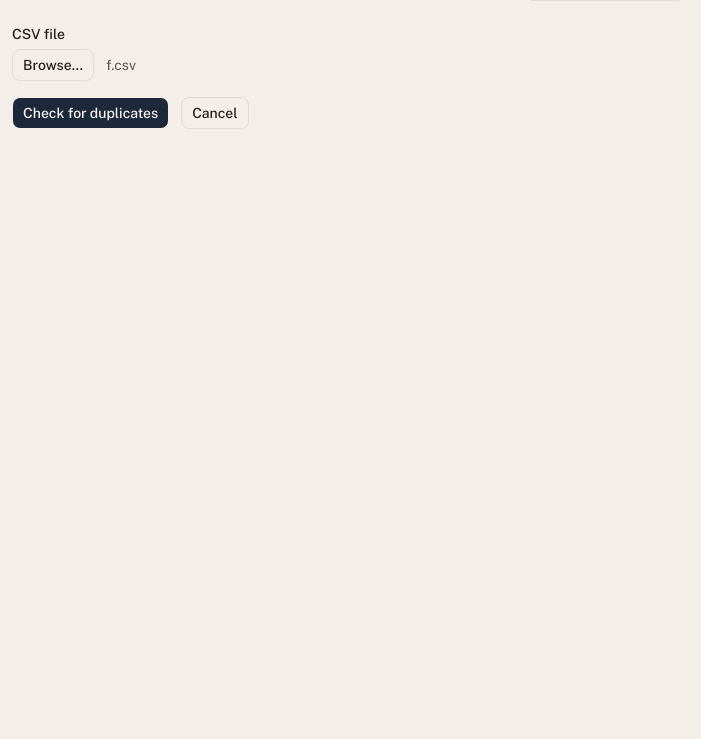
caps the list at 20 and says how many more
The width and height of the screenshot is (701, 739).
Earlier steps of the test are not shown.
Click the button "Check for duplicates" at [91, 113], box [12,97,169,129]
(page scrolled)
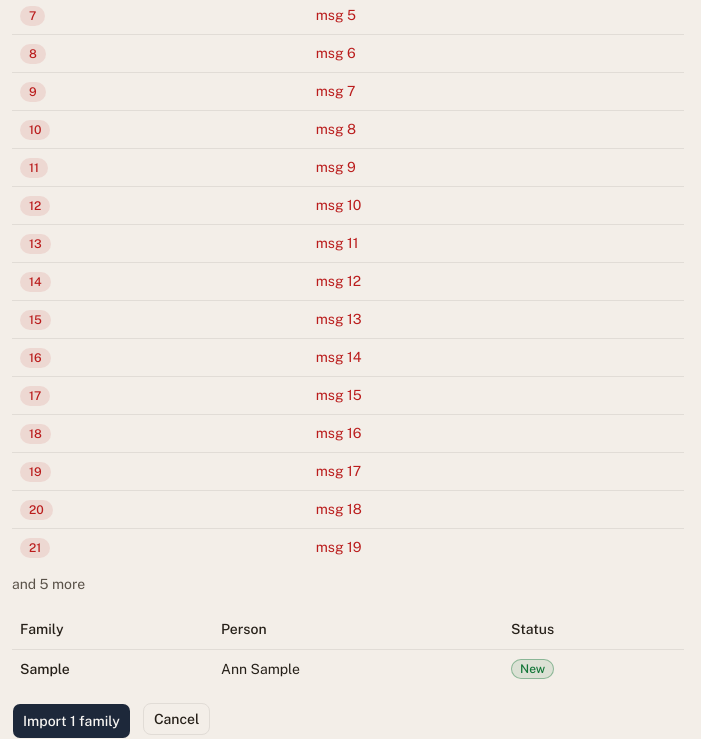
Now the button "Import 1 family" is shown, box [12,703,131,738]
Now the text "msg 19" is shown, box [308,528,684,566]
Now the text "and 5 more" is shown, box [12,576,85,592]
